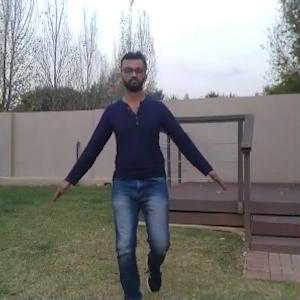land: (41, 39, 238, 298)
